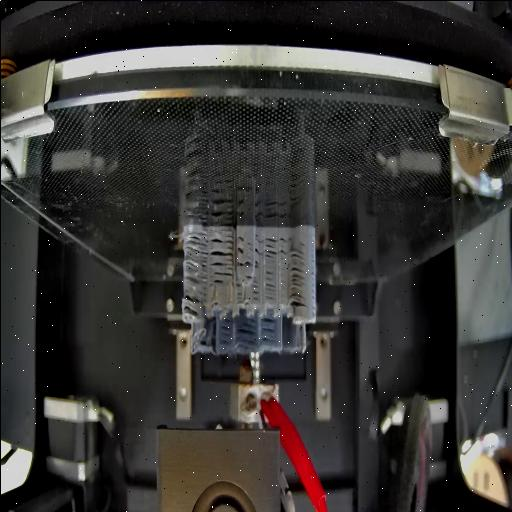cracks: (184, 232, 208, 284), (289, 246, 306, 310), (210, 229, 234, 269), (254, 235, 288, 257), (182, 294, 204, 320), (236, 318, 256, 344), (264, 267, 276, 300), (218, 318, 232, 346), (214, 268, 233, 288), (262, 320, 276, 340), (250, 282, 262, 304), (237, 259, 259, 270), (236, 233, 246, 255), (235, 282, 243, 302), (242, 271, 254, 281), (198, 338, 208, 348)
